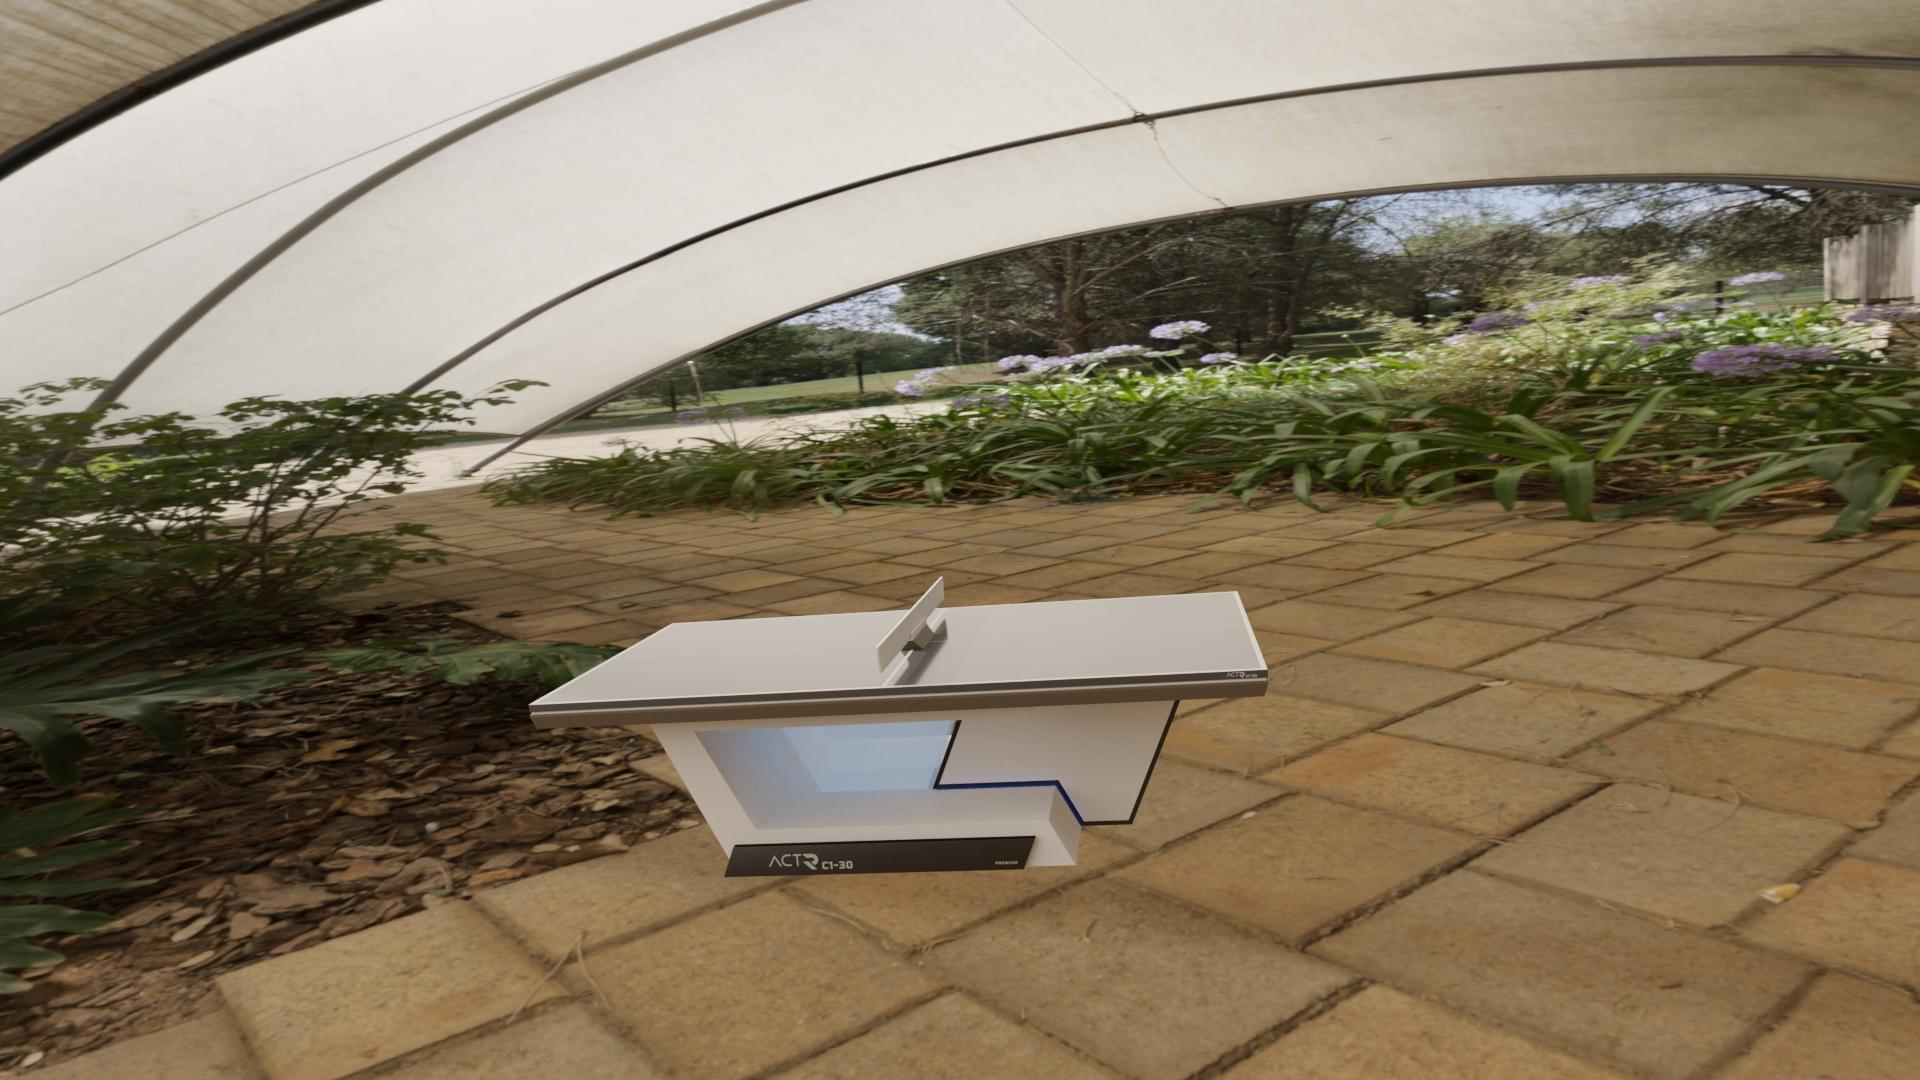table: (535, 592, 1262, 703)
